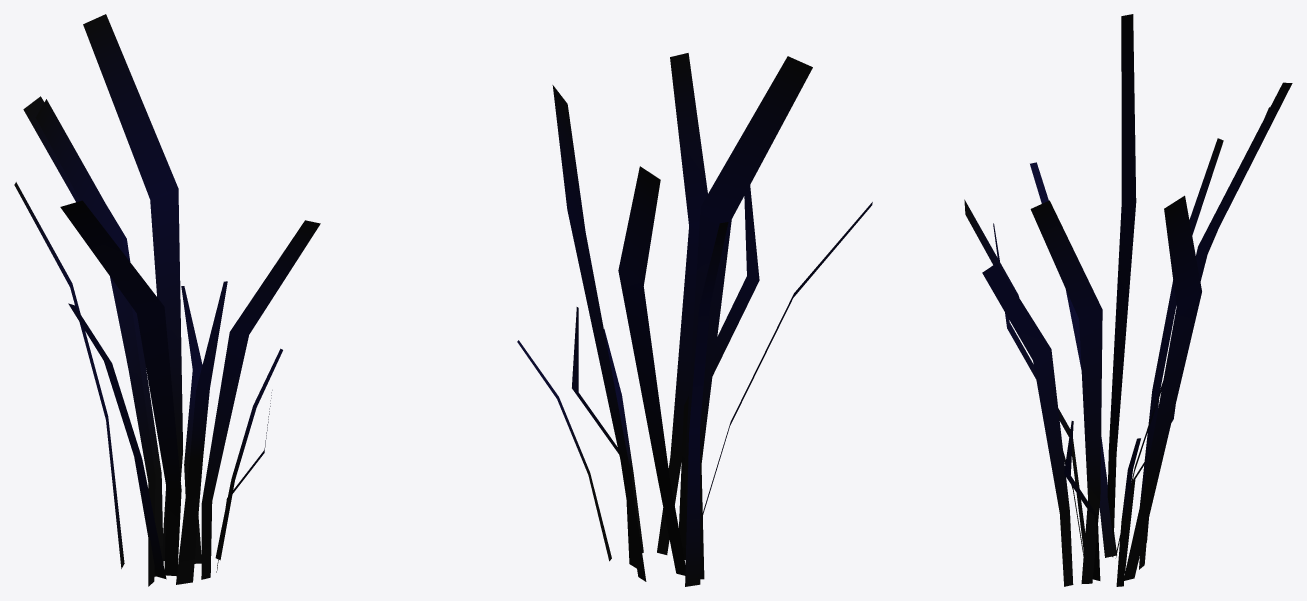
File: SM_Foliage_ReedA_03.fbx
The picture shows the model from 3 angles, left to right: view 1: azimuth 30°, elevation 25°; view 2: azimuth 150°, elevation 25°; view 3: azimuth 270°, elevation 25°; orthographic projection. The views are drawn at different scales.
Parts seen in each view (by area): view 1: SM_Foliage_ReedA_03; view 2: SM_Foliage_ReedA_03; view 3: SM_Foliage_ReedA_03.
Part boxes in pixels (box(x1,y1,x2,y2)): SM_Foliage_ReedA_03: box(14, 14, 320, 586); SM_Foliage_ReedA_03: box(517, 53, 872, 586); SM_Foliage_ReedA_03: box(964, 14, 1292, 586).
Size of the model in its own units: 82.98 by 60.23 by 101.
